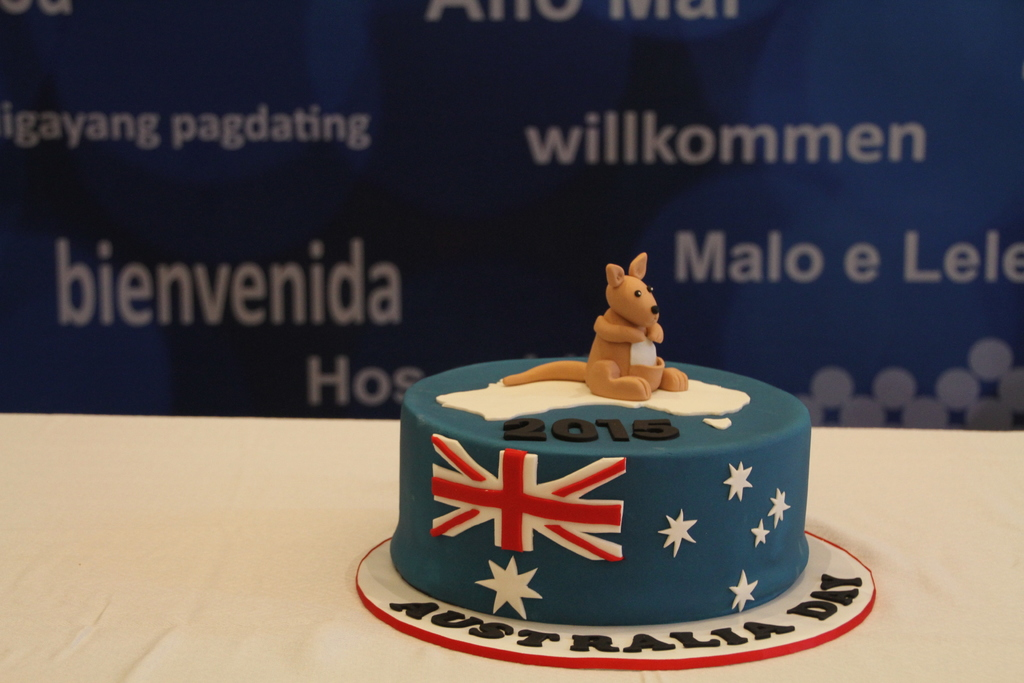cake: (388, 244, 812, 624)
